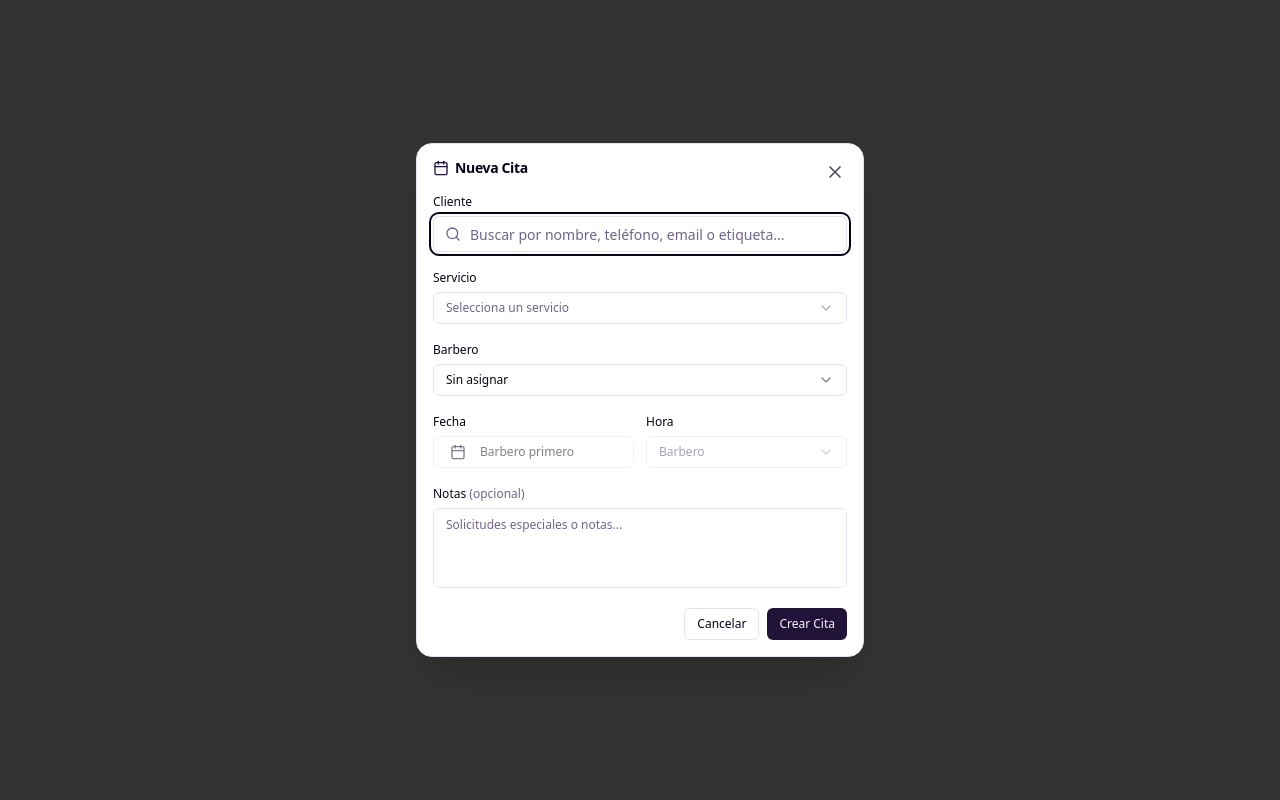
Test: BookingModal client assignment (create) › filters by name as the user types and assigns on click
The width and height of the screenshot is (1280, 800).
Type "Alfr" into the field with placeholder "Buscar por nombre, teléfono, email o etiqueta..." at coordinates (640, 234), box [433,216,847,252]
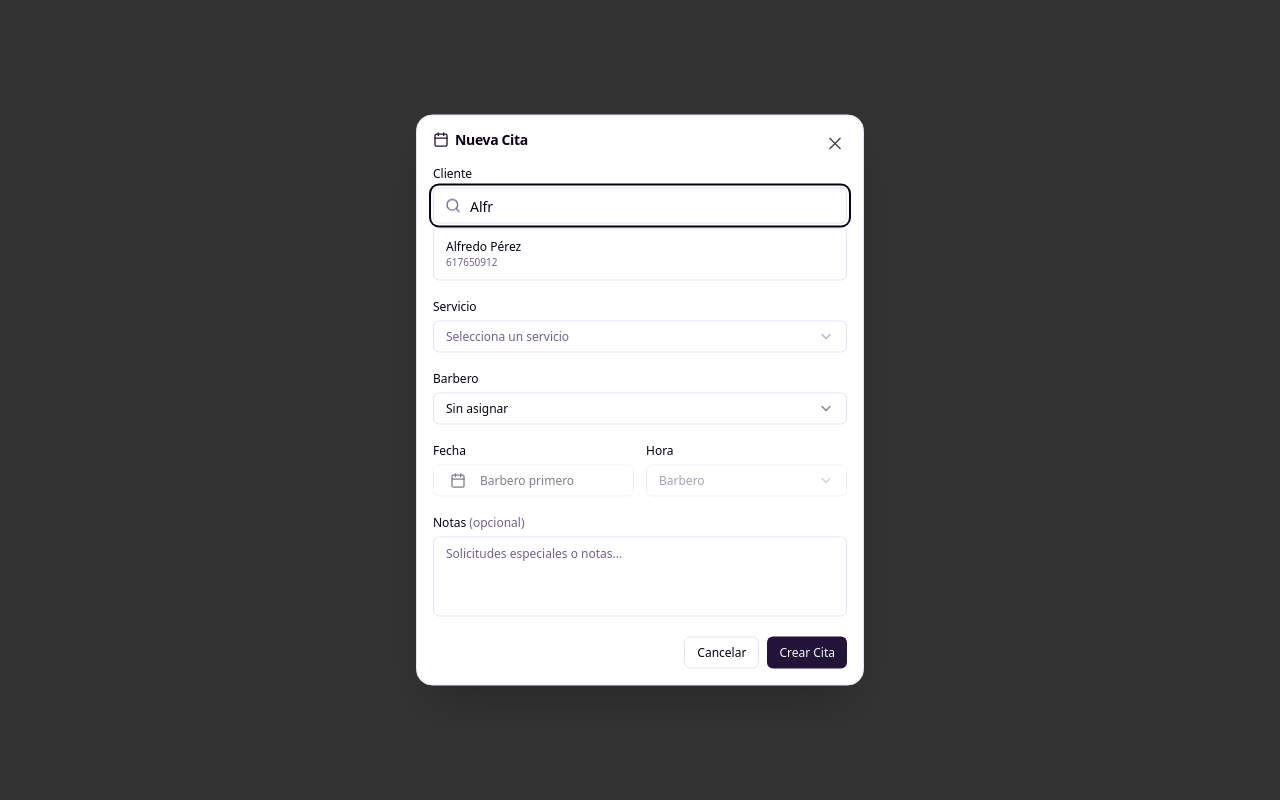
expect the text "Alfredo Pérez" is shown: met
Click the text "Alfredo Pérez" at coordinates (484, 246), box [446,238,521,254]
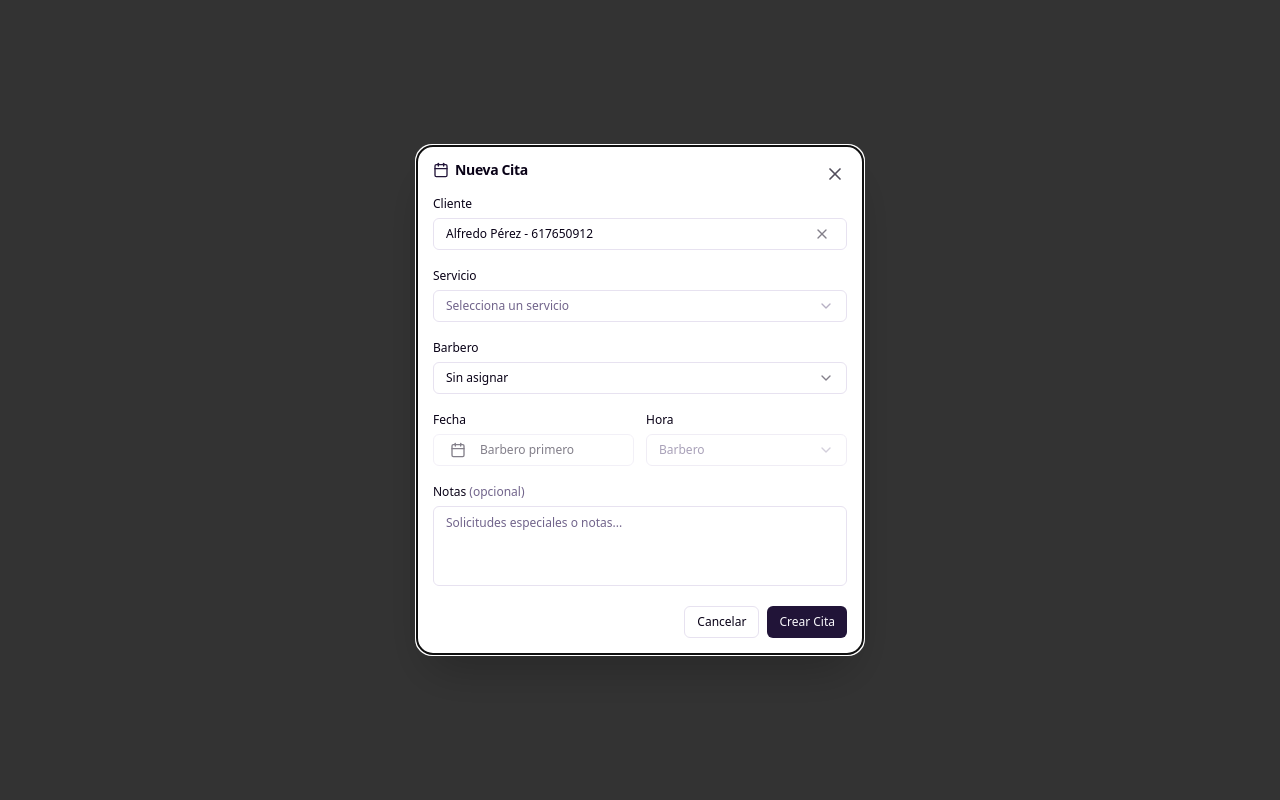
expect the field with placeholder "Buscar por nombre, teléfono, email o etiqueta..." is not shown: met
expect the text "Alfredo Pérez - 617650912" is shown: met, box [446,226,593,242]
Note: The X clears the selection and brings the search back
Click the button named "Quitar cliente" at coordinates (822, 234), box [810,222,834,246]
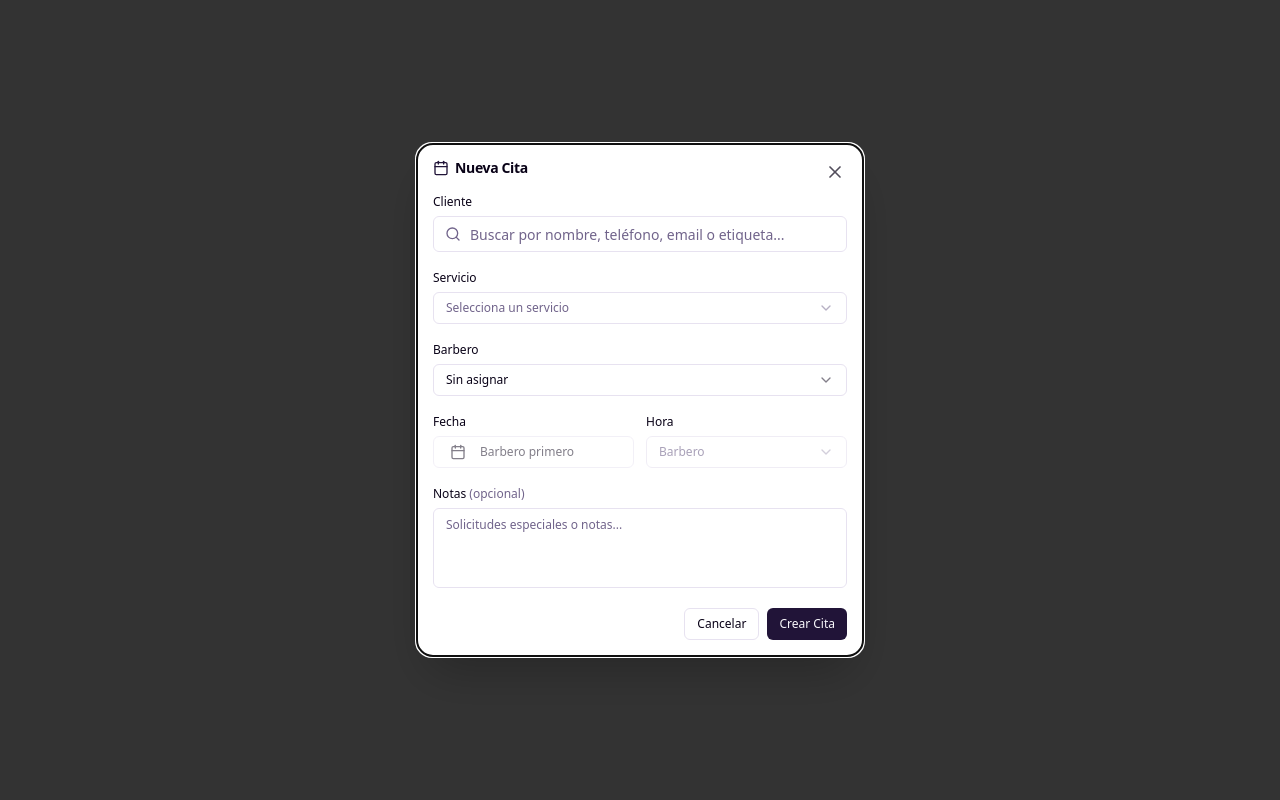
expect the field with placeholder "Buscar por nombre, teléfono, email o etiqueta..." is shown: met, box [433,216,847,252]
